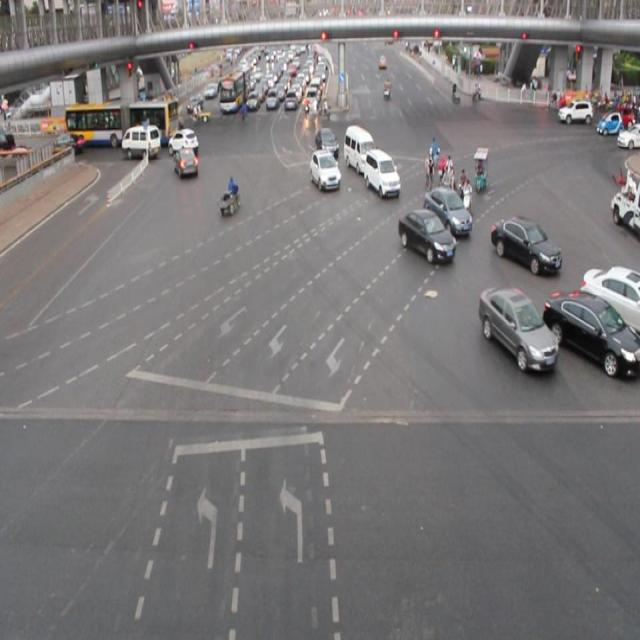car: (542, 289, 640, 376), (476, 286, 555, 368), (579, 263, 640, 331), (488, 216, 560, 273), (397, 208, 454, 263), (424, 186, 472, 237), (363, 150, 398, 194), (308, 148, 341, 191), (167, 126, 199, 158), (173, 143, 198, 178), (314, 128, 339, 160)
truck: (343, 126, 376, 173), (121, 124, 160, 160)
